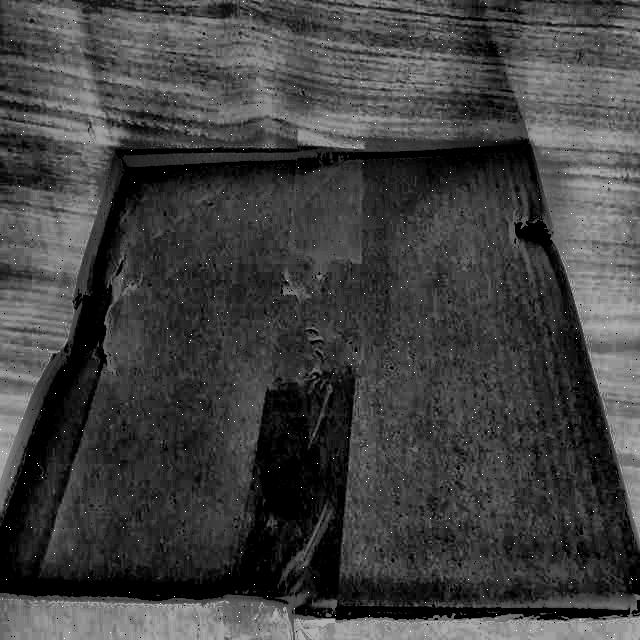box: (1, 136, 640, 640)
hole: (62, 280, 121, 381), (508, 207, 556, 251)
